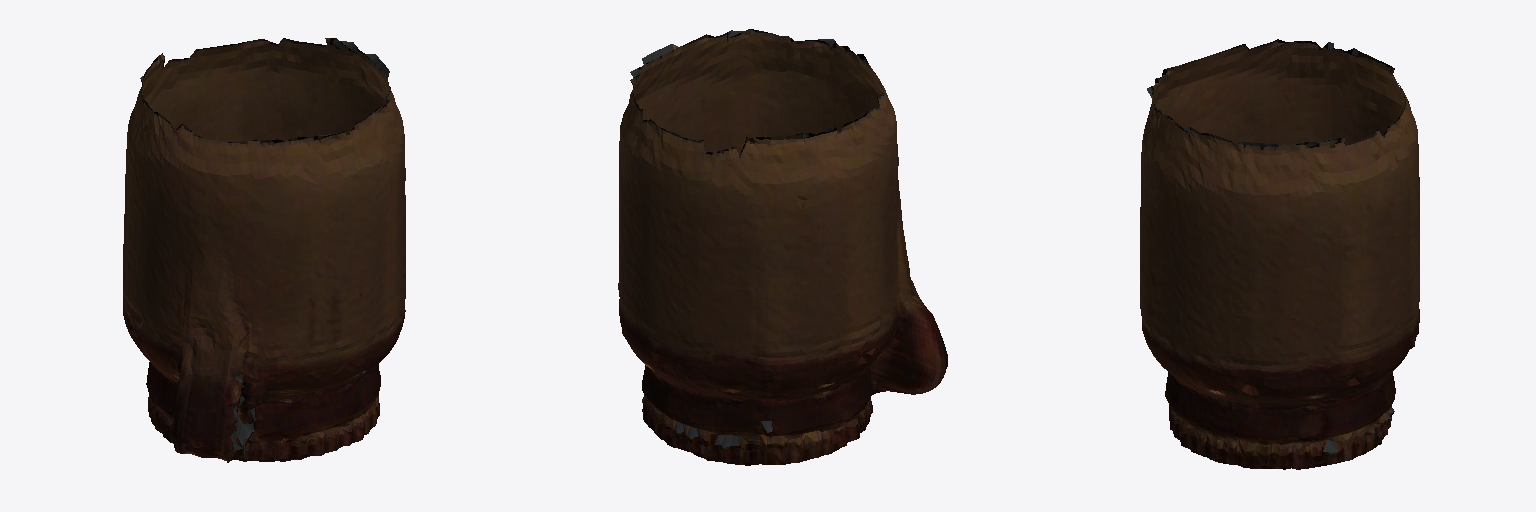
The picture shows the model from 3 angles: view 1: azimuth 30°, elevation 25°; view 2: azimuth 150°, elevation 25°; view 3: azimuth 270°, elevation 25°; orthographic projection.
Parts seen in each view (by area): view 1: Object__0; view 2: Object__0; view 3: Object__0.
Boxes of the visible parts, box(x1,y1,x2,y2) form: Object__0: box(123, 38, 405, 462); Object__0: box(618, 29, 947, 465); Object__0: box(1140, 39, 1419, 469).
Bounding box in the file's own units: 54.92 × 68.66 × 51.11.
Materials: 1 (1 with a texture image).